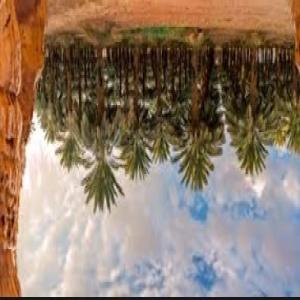palm tree: (35, 23, 299, 213)
